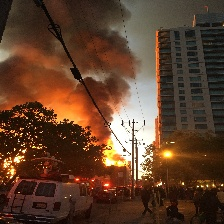fire: (98, 137, 130, 168), (1, 147, 27, 182)
smoke: (1, 1, 139, 134)
